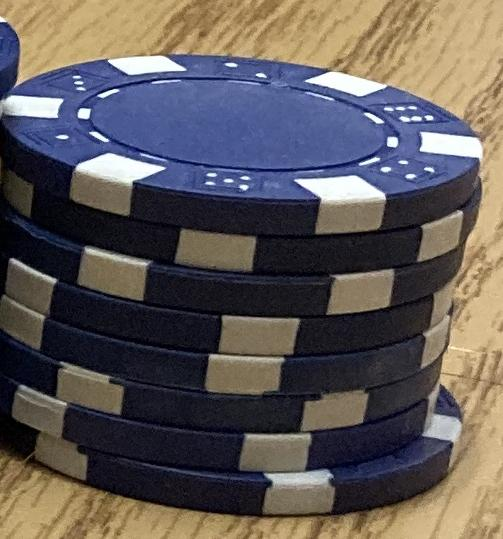Chip: (1, 1, 503, 539)
